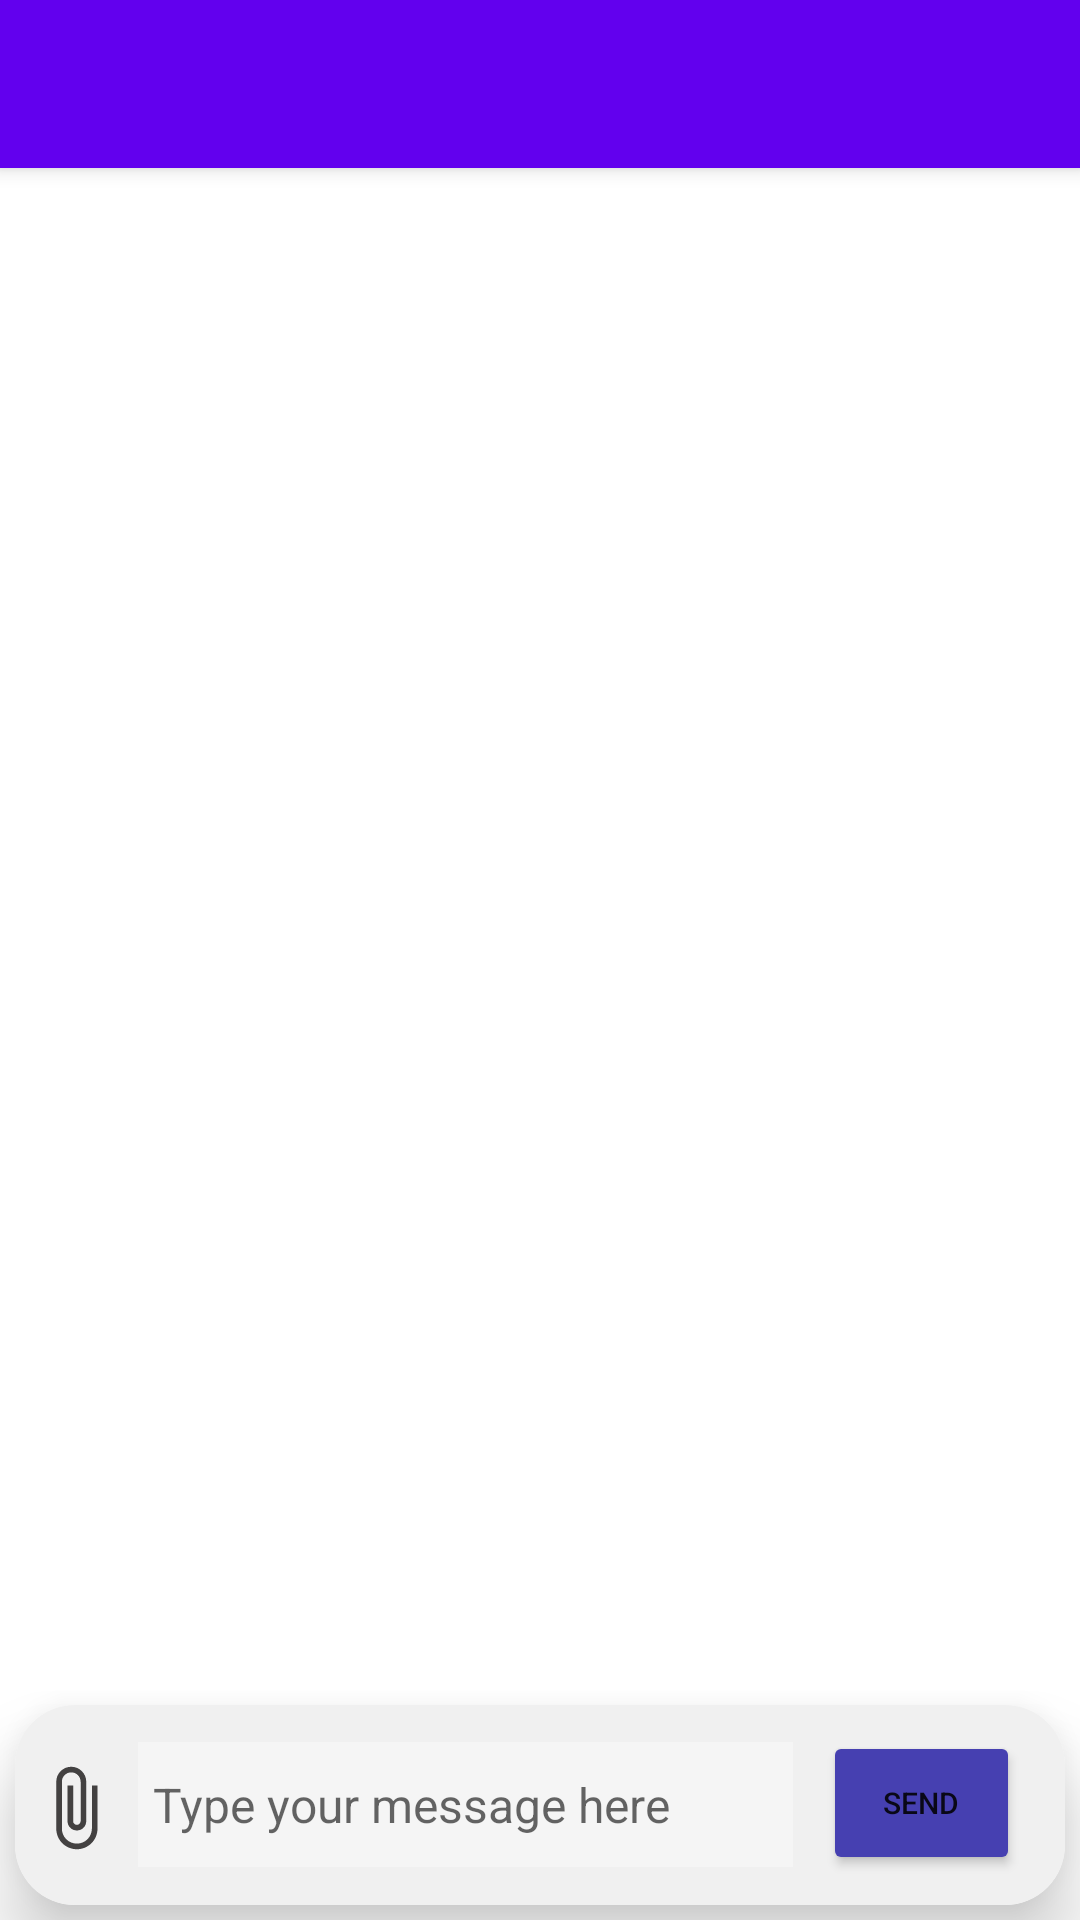

Where to tap for icons on this 1080w x 1920h app screen, as point (x, y):
attach file: point (77, 1808)
